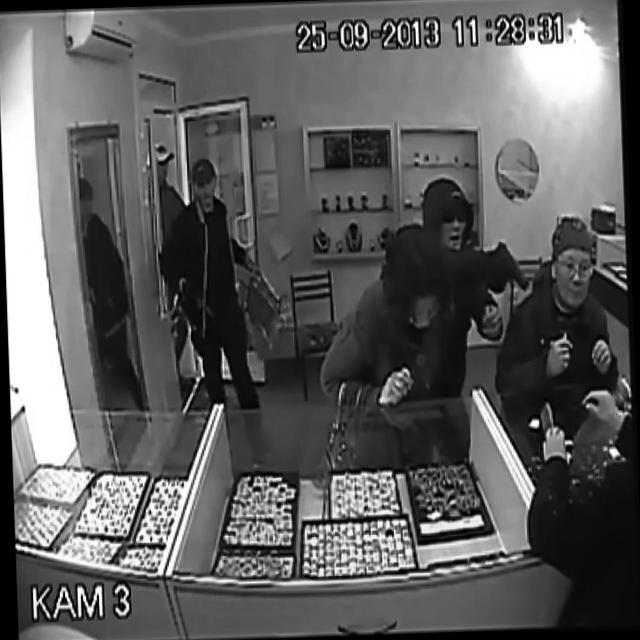gun: (474, 225, 526, 302)
person: (173, 166, 266, 396), (330, 219, 453, 385), (508, 192, 620, 362), (142, 131, 216, 303)
person with a gun: (414, 158, 525, 375)
